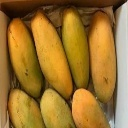mango: (30, 10, 72, 100), (6, 17, 46, 98), (59, 6, 92, 93), (87, 11, 118, 101), (70, 88, 112, 128), (7, 87, 45, 128), (41, 88, 74, 128)
